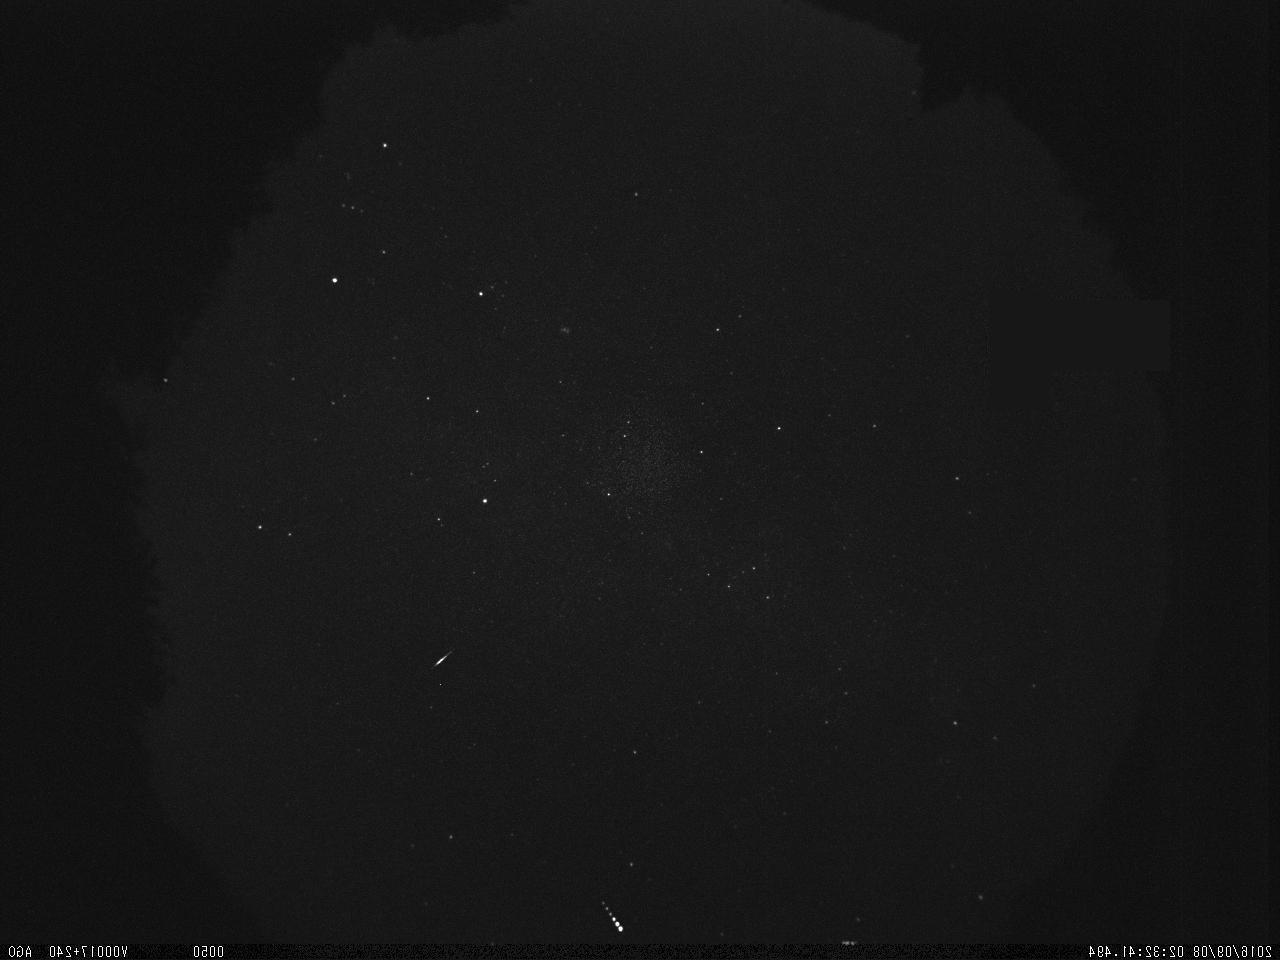meteor: (421, 641, 461, 677)
